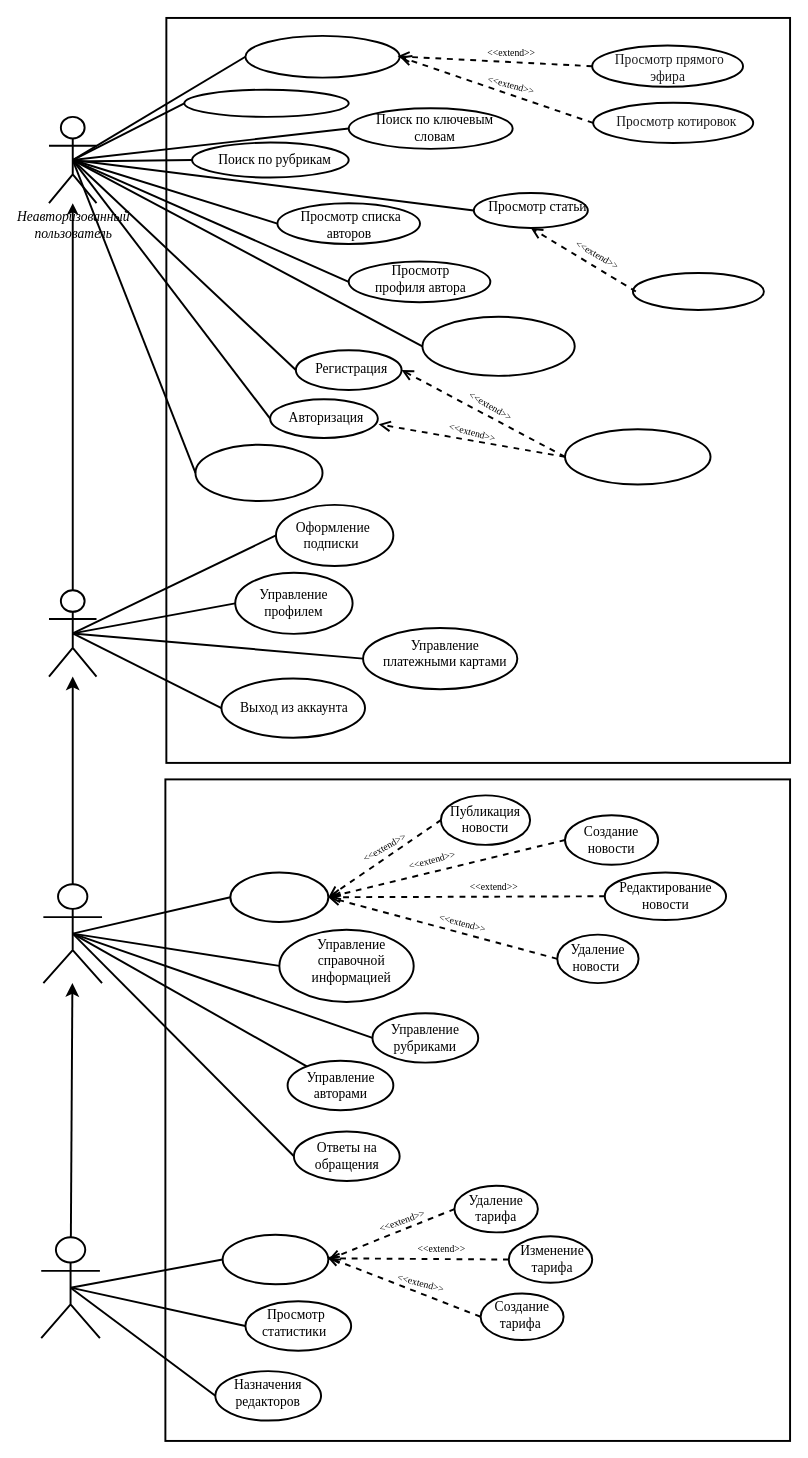
Image size: 808x1458. Some labels were removed from this diagram. Here are the shapes that lost their labels. From the top down, the box of each, then its label:
(244, 34, 400, 78): Просмотр главной страницы
(183, 88, 349, 117): Прослушивание радио
(631, 272, 764, 310): Поделится статьей
(421, 315, 575, 376): Просмотр информации о сайте
(194, 443, 323, 501): Обращение в службу поддержки
(564, 428, 711, 485): Авторизация через сторонние сервисы
(48, 589, 97, 677): Авторизованный пользователь
(229, 871, 329, 922): Управление новостями
(42, 883, 103, 984): Редактор
(221, 1233, 329, 1285): Управление тарифами
(40, 1236, 100, 1339): Администратор
